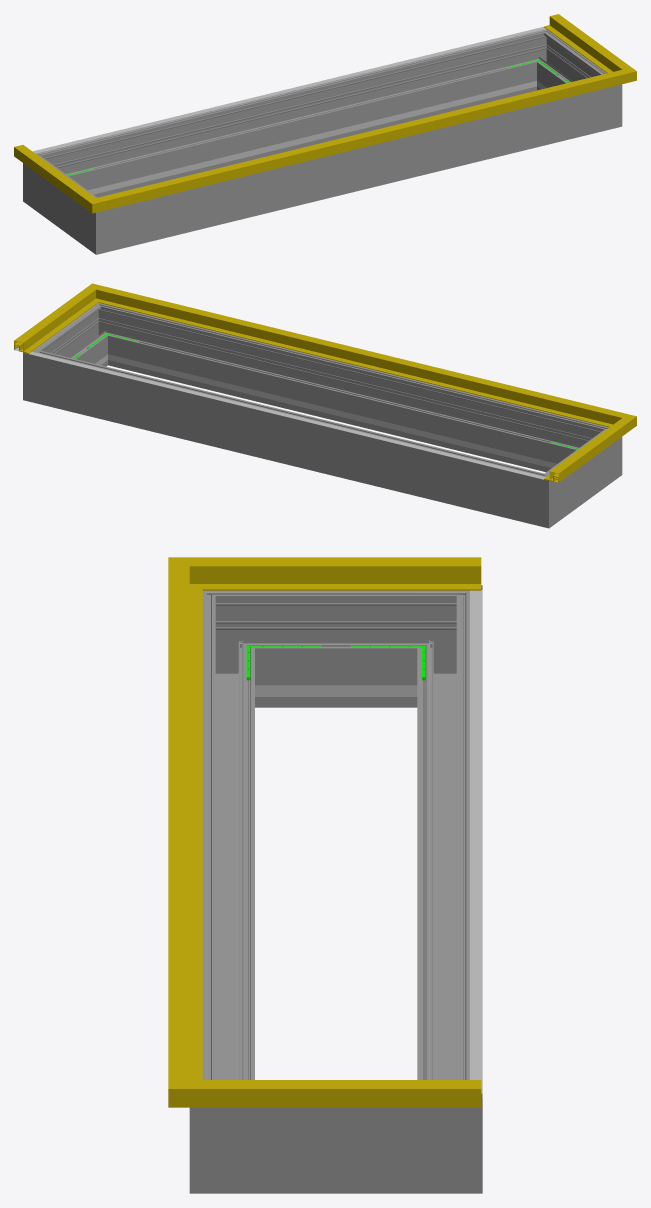
3 renders of one model, top to bottom at view 1: azimuth 30°, elevation 25°; view 2: azimuth 150°, elevation 25°; view 3: azimuth 270°, elevation 25°, orthographic. The views are drawn at different scales.
Visible parts, largest first — view 1: 3DGeom-276, 3DGeom-298, 3DGeom-123, 3DGeom-244, 3DGeom-270, 3DGeom-220, 3DGeom-284, 3DGeom-290, 3DGeom-128, 3DGeom-268, 3DGeom-297, 3DGeom-278 (+3 smaller); view 2: 3DGeom-298, 3DGeom-276, 3DGeom-123, 3DGeom-278, 3DGeom-239, 3DGeom-220, 3DGeom-284, 3DGeom-290, 3DGeom-297, 3DGeom-128, 3DGeom-268, 3DGeom-118 (+3 smaller); view 3: 3DGeom-276, 3DGeom-298, 3DGeom-123, 3DGeom-268, 3DGeom-297, 3DGeom-118, 3DGeom-290, 3DGeom-284, 3DGeom-128, 3DGeom-220, 3DGeom-270, 3DGeom-278 (+4 smaller).
Boxes of the visible parts, x1,y1,x2,y2 form: 3DGeom-276: [60, 36, 531, 197]; 3DGeom-298: [130, 92, 588, 246]; 3DGeom-123: [121, 76, 602, 205]; 3DGeom-244: [100, 89, 504, 192]; 3DGeom-270: [76, 190, 130, 254]; 3DGeom-220: [33, 26, 546, 153]; 3DGeom-284: [518, 29, 562, 91]; 3DGeom-290: [588, 66, 622, 134]; 3DGeom-128: [544, 14, 616, 69]; 3DGeom-268: [42, 165, 87, 240]; 3DGeom-297: [540, 41, 596, 89]; 3DGeom-278: [23, 148, 73, 215]; 3DGeom-298: [113, 309, 584, 471]; 3DGeom-276: [57, 356, 521, 519]; 3DGeom-123: [118, 292, 602, 423]; 3DGeom-278: [515, 464, 568, 528]; 3DGeom-239: [141, 362, 544, 466]; 3DGeom-220: [28, 352, 545, 479]; 3DGeom-284: [23, 339, 62, 408]; 3DGeom-290: [82, 302, 126, 366]; 3DGeom-297: [48, 314, 104, 366]; 3DGeom-128: [14, 298, 87, 353]; 3DGeom-268: [558, 439, 602, 513]; 3DGeom-118: [544, 428, 617, 482]; 3DGeom-276: [417, 618, 469, 1079]; 3DGeom-298: [202, 618, 254, 1079]; 3DGeom-123: [168, 590, 202, 1073]; 3DGeom-268: [268, 590, 403, 707]; 3DGeom-297: [268, 1107, 403, 1193]; 3DGeom-118: [247, 557, 481, 590]; 3DGeom-290: [189, 1065, 268, 1193]; 3DGeom-284: [404, 1065, 482, 1193]; 3DGeom-128: [247, 1080, 481, 1107]; 3DGeom-220: [470, 590, 482, 1093]; 3DGeom-270: [202, 590, 268, 707]; 3DGeom-278: [404, 585, 482, 707].
Bounding box in the file's own units: 2.44 × 0.2434 × 0.6096.
